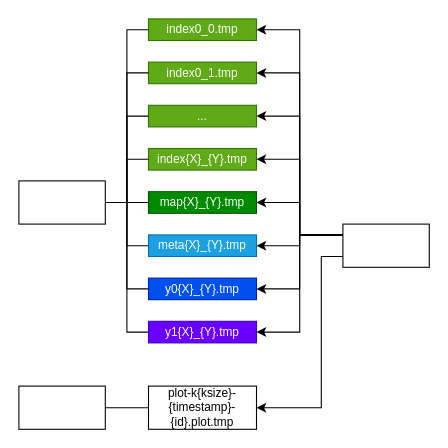
The diagram is 448 pixels wide and 448 high, and some of its shapes have lost their labels. Here are the shapes that lost their labels. From the top down, the box of each, then its label:
(18, 180, 105, 224): Temporary directory
(342, 223, 429, 267): Chia Farmer
(18, 385, 105, 429): Final directory
